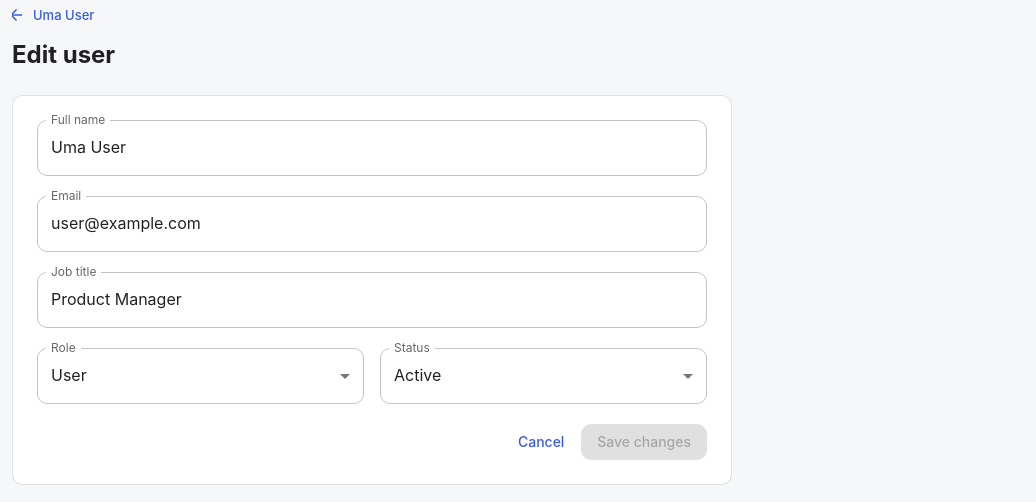
Test case: users feature › edits a user and shows the new data on the details page
This screenshot has width=1036, height=502.
Step 1. Replace the text in the field labelled "Full name" with "Uma Updated" → (372, 148), box [37,120,707,176]
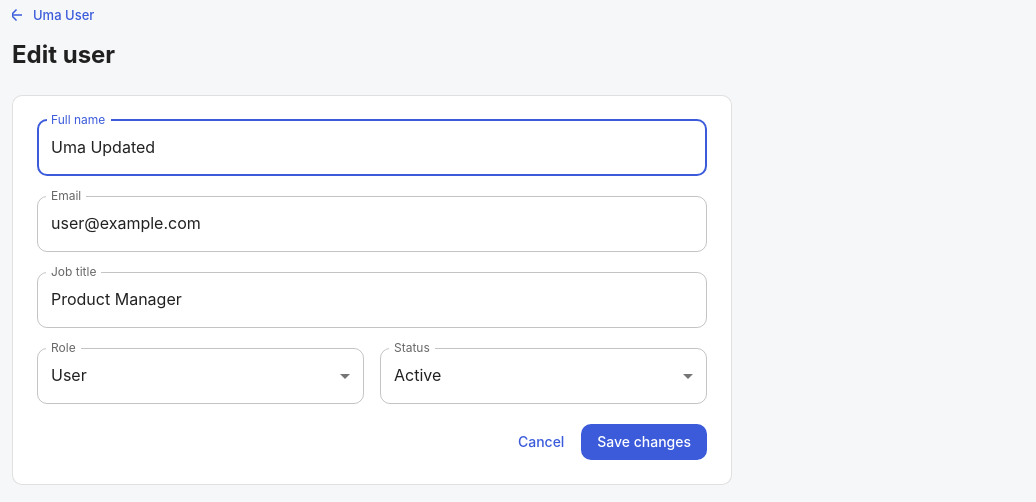
Step 2. Click the button "Save changes" → click(644, 442), box [581,424,707,460]
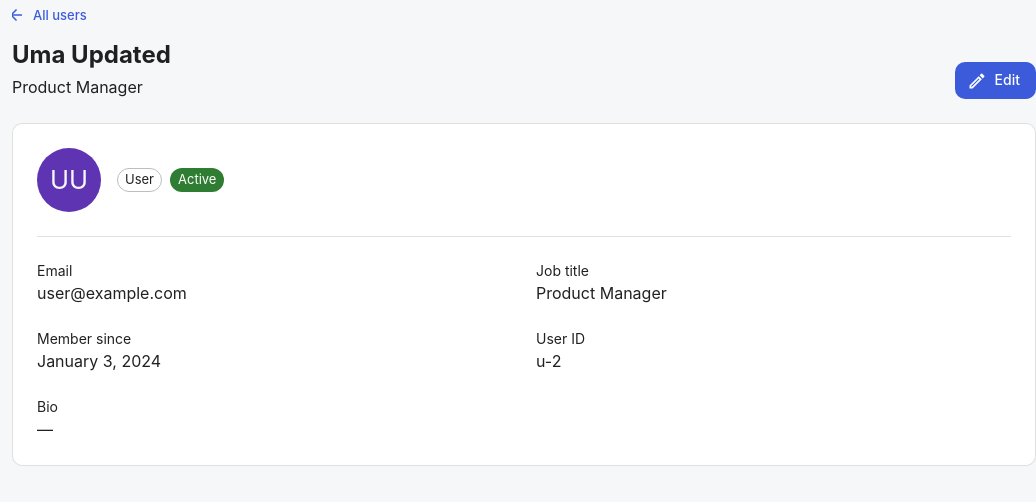
Expected: the heading "Uma Updated" is shown, [12,39,171,71]
